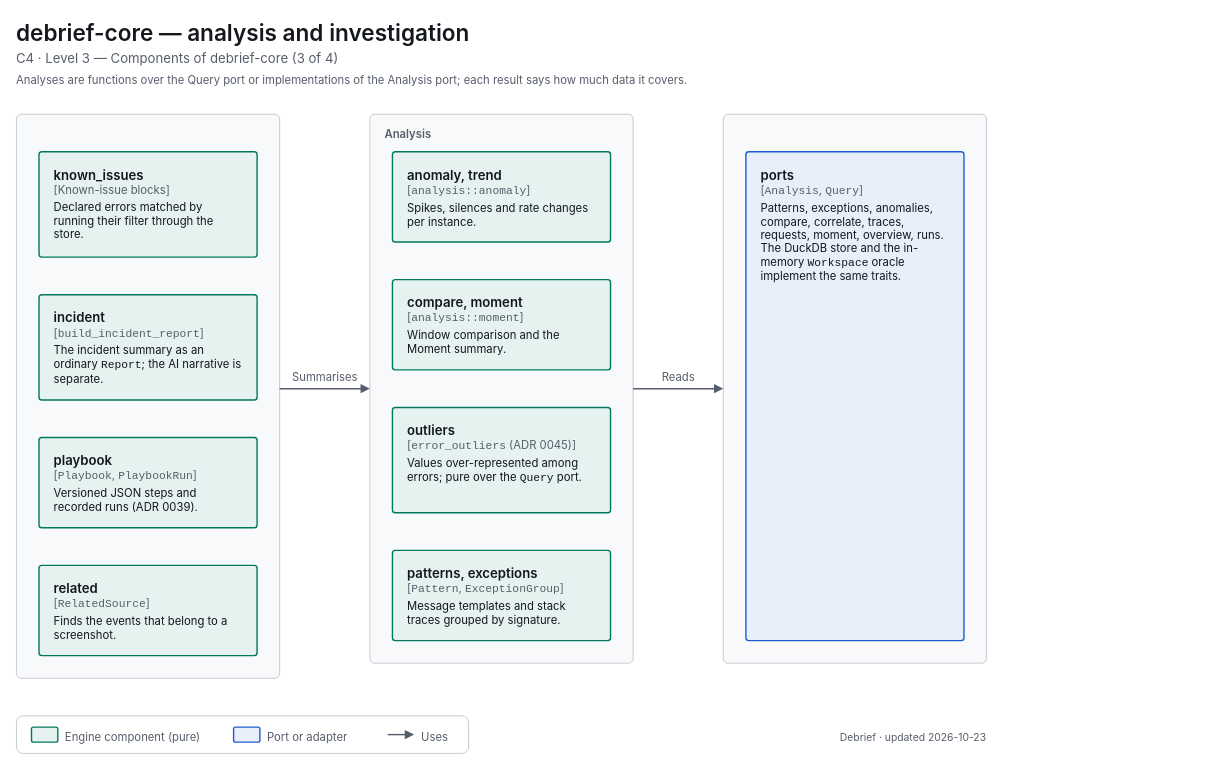
Image size: 1206x770. Some labels were removed from this diagram. The box of each missing label's shape, as (x1, y1, x2, y2) in pixels:
Investigate: (16, 113, 280, 678)
Store ports: (722, 113, 987, 663)
